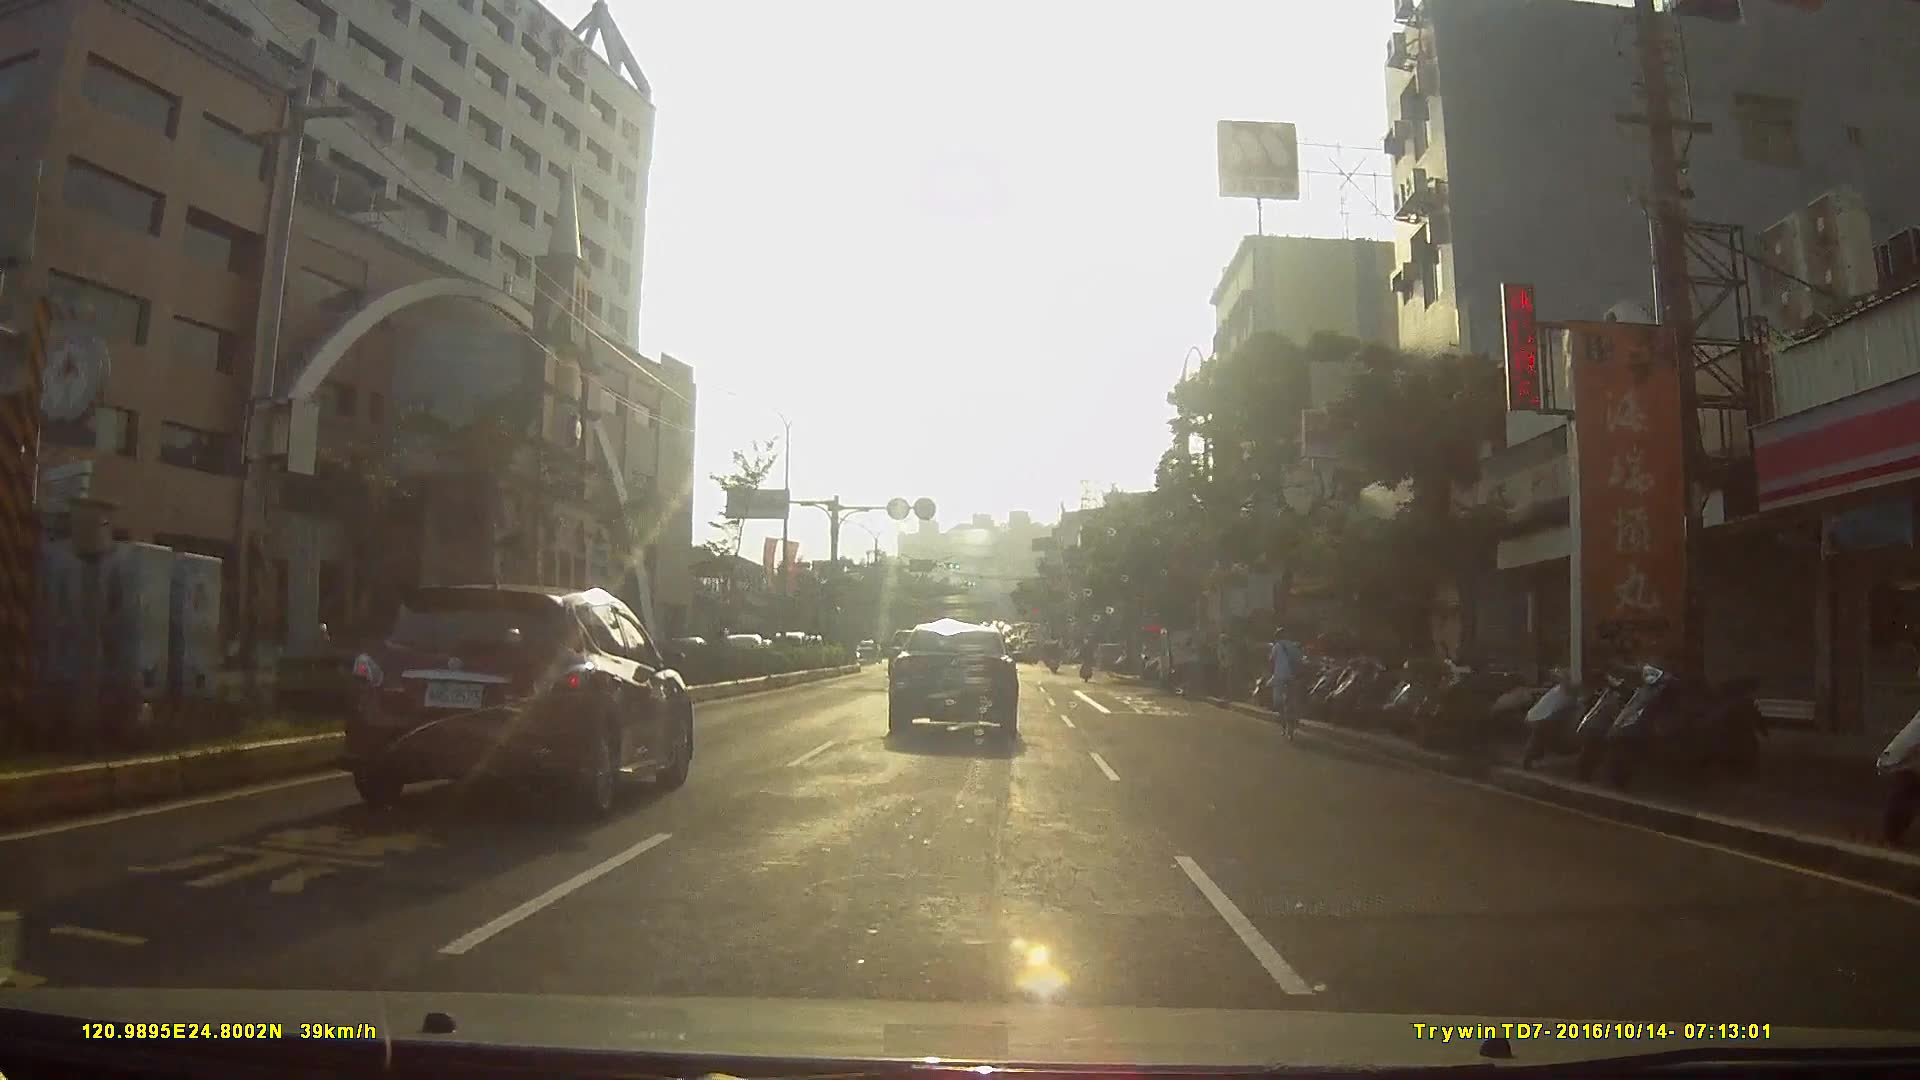rider: (1264, 623, 1310, 739)
vehicle: (337, 576, 706, 820), (883, 613, 1033, 744), (1155, 618, 1226, 688), (763, 607, 822, 662)
